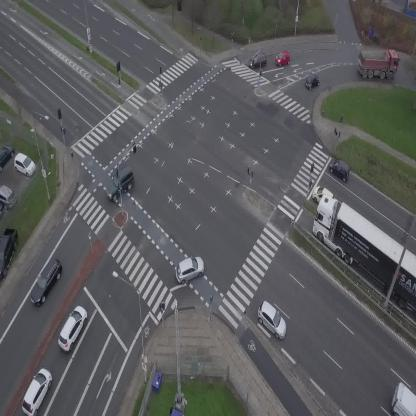car: (25, 256, 68, 308), (53, 303, 93, 353), (17, 366, 57, 416), (251, 299, 294, 342), (99, 165, 141, 203), (171, 253, 209, 286), (326, 155, 354, 182), (310, 182, 335, 204), (302, 72, 322, 91), (247, 52, 268, 69), (273, 50, 292, 67)
lorry: (359, 49, 399, 79), (391, 382, 416, 416)
